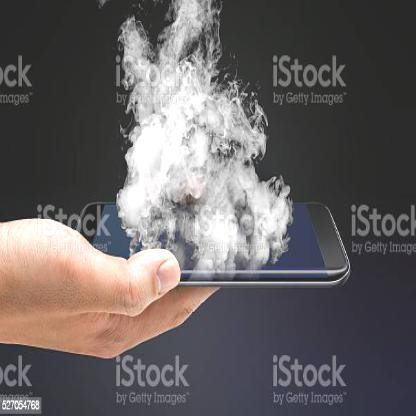smoke: (112, 0, 264, 218)
